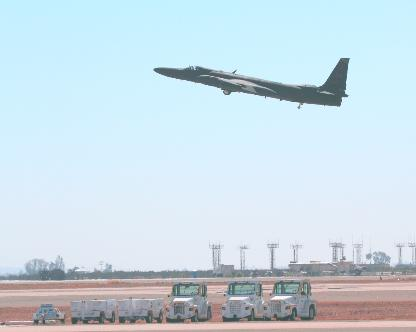Tu160: (152, 57, 350, 108)
